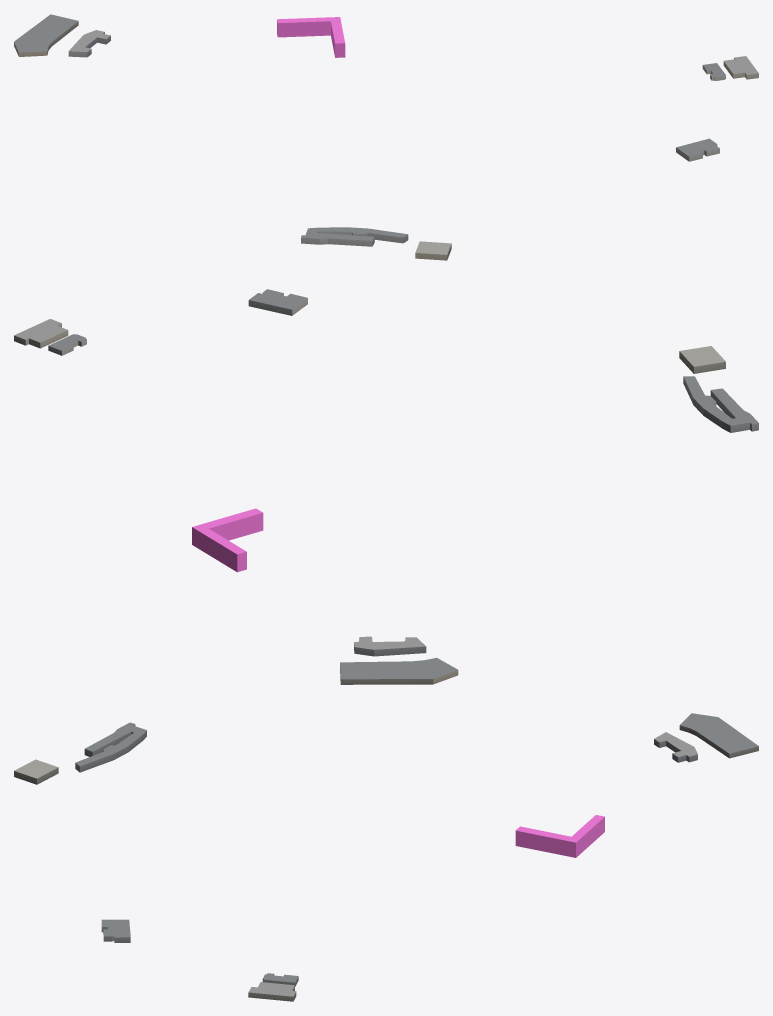
File: bld_13_0.fbx
3 views of the same model, one above another, from view 1: azimuth 30°, elevation 25°; view 2: azimuth 150°, elevation 25°; view 3: azimuth 270°, elevation 25° (orthographic). The views are drawn at different scales.
Parts seen in each view (by area): view 1: bld_13_0_LOD0, bld_13_0_COL; view 2: bld_13_0_LOD0, bld_13_0_COL; view 3: bld_13_0_LOD0, bld_13_0_COL.
Boxes of the visible parts, <box> form: bld_13_0_LOD0: <box>14,14,758,260</box>; bld_13_0_COL: <box>277,17,345,57</box>; bld_13_0_LOD0: <box>14,289,758,684</box>; bld_13_0_COL: <box>192,508,263,572</box>; bld_13_0_LOD0: <box>14,713,758,1001</box>; bld_13_0_COL: <box>515,815,604,857</box>.
Size of what is drawn, in the model's own units: 1334 by 33.65 by 1480.
